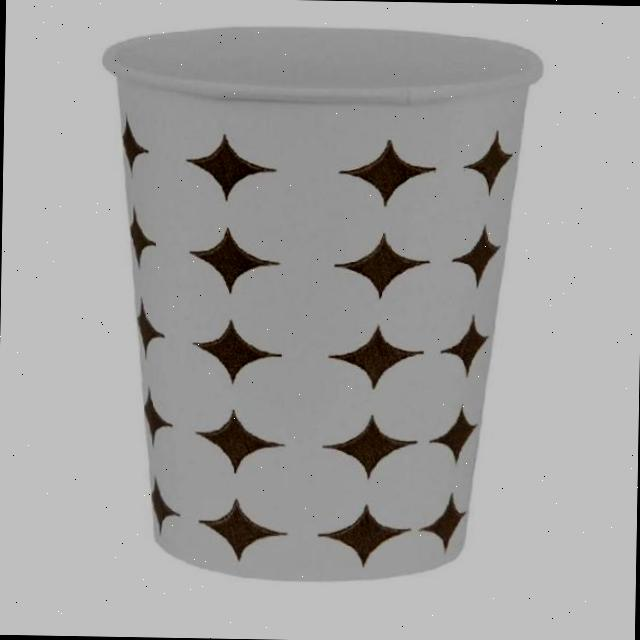trash: (58, 0, 555, 594)
